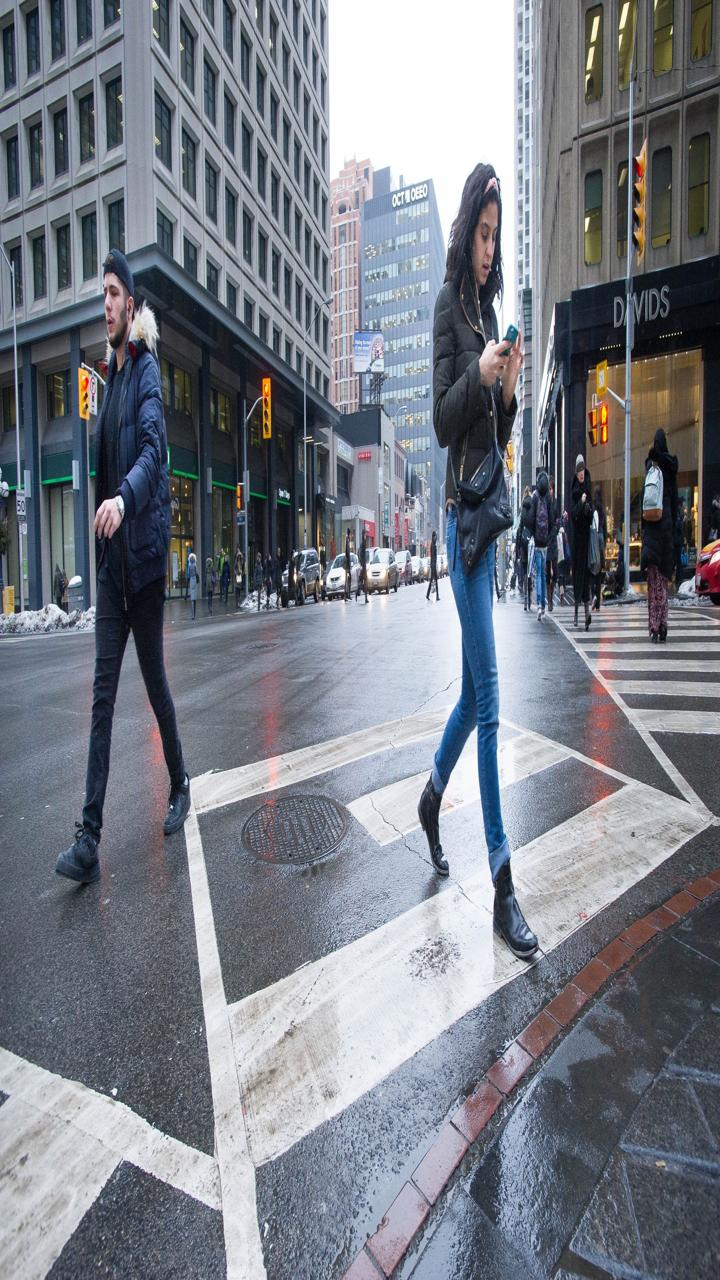pedestrian: (396, 166, 564, 978), (36, 225, 207, 913), (631, 433, 710, 653), (556, 425, 635, 645), (505, 427, 568, 628), (332, 519, 356, 600), (421, 525, 445, 606)
